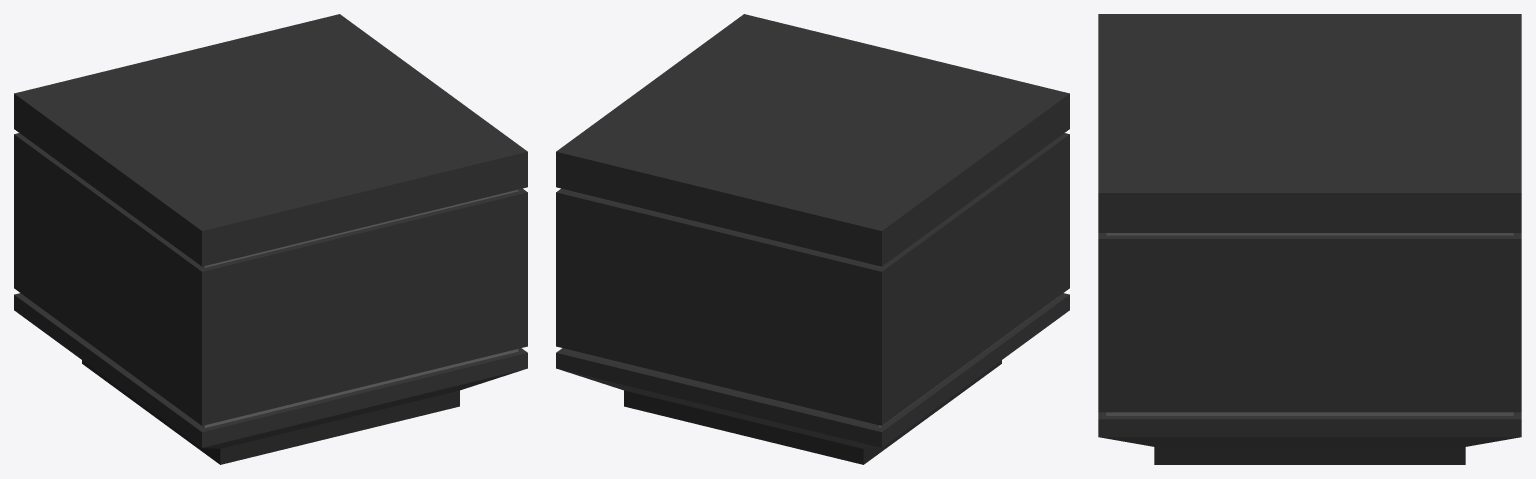
Rendered from table_E.FBX.
3 views of the same model, side by side, from view 1: azimuth 30°, elevation 25°; view 2: azimuth 150°, elevation 25°; view 3: azimuth 270°, elevation 25° (orthographic). The views are drawn at different scales.
Parts seen in each view (by area): view 1: table_E; view 2: table_E; view 3: table_E.
Boxes of the visible parts, box(x1,y1,x2,y2) form: table_E: box(14, 14, 527, 464); table_E: box(556, 14, 1069, 464); table_E: box(1098, 14, 1521, 464).
Size of the model in its own units: 53.51 by 41.21 by 53.51.
